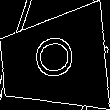O_W: (30, 37, 78, 85)
